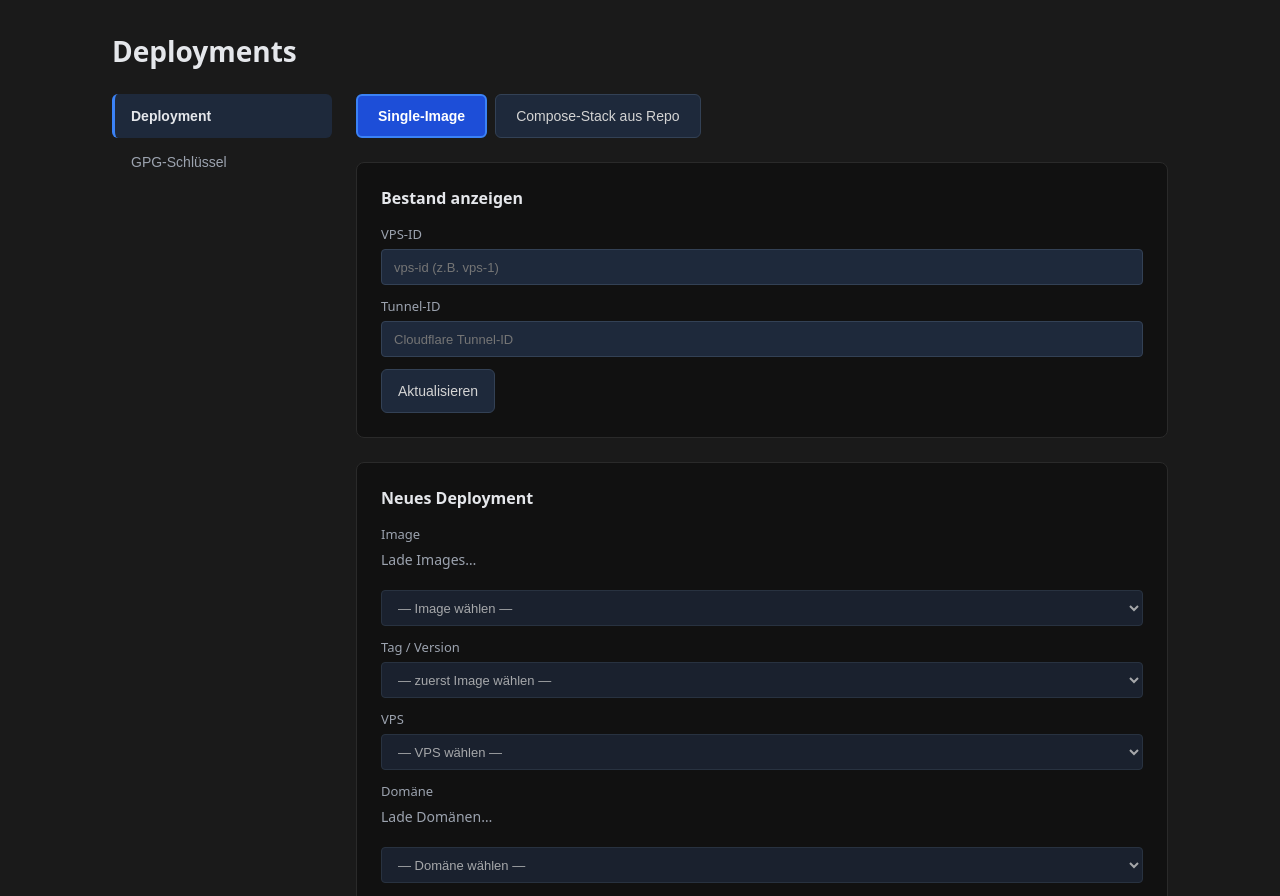
Test: DeploymentsView — GPG-Schlüssel-Ansicht: App-Dropdown + Passphrase anlegen (F-087/S-375) › AC5: exists:true → Knopf deaktiviert mit Hinweis "Passphrase existiert bereits"
The width and height of the screenshot is (1280, 896).
Click the button with test id "subnav-item-gpg" at (222, 162), box [112,140,332,184]
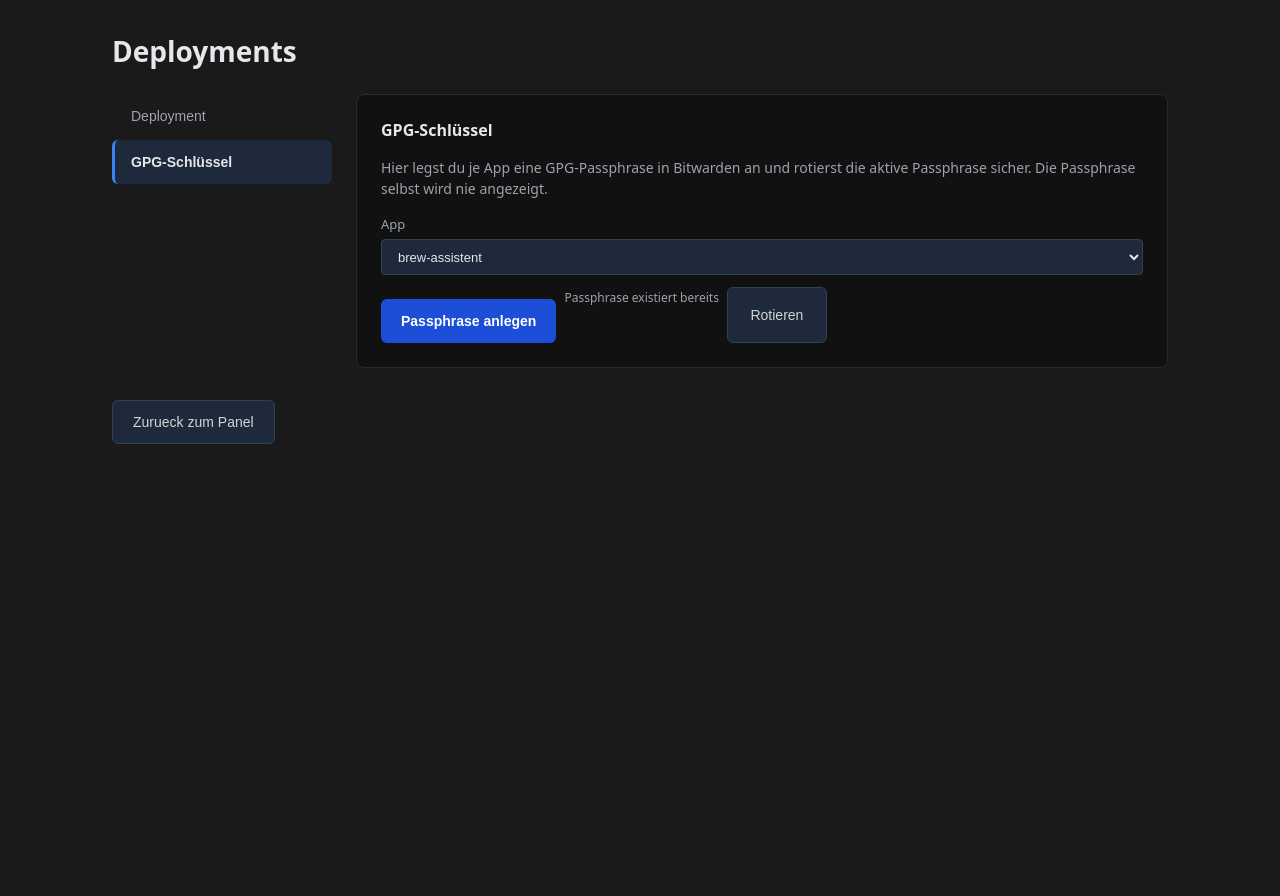
Now the element named "GPG-Schlüssel" shows "Passphrase existiert bereits", box [564,289,719,306]
Now the button "Passphrase anlegen" is disabled, box [381,299,556,343]
